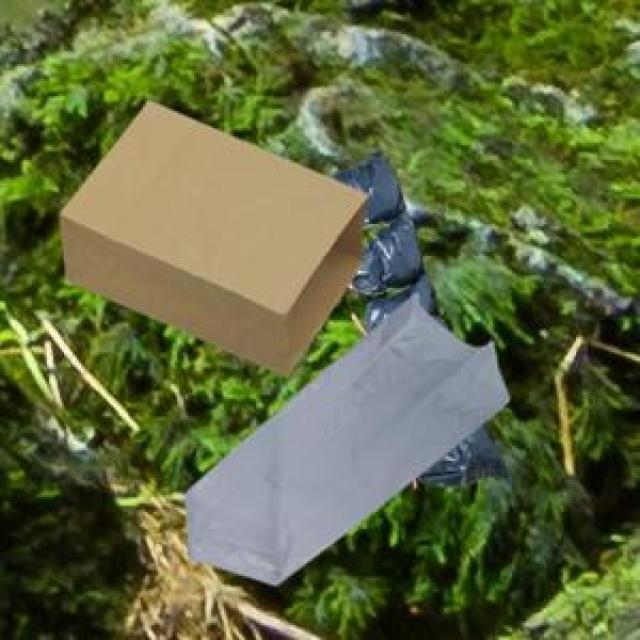miscellaneous trash: (326, 147, 505, 482)
paper: (56, 96, 365, 371)
